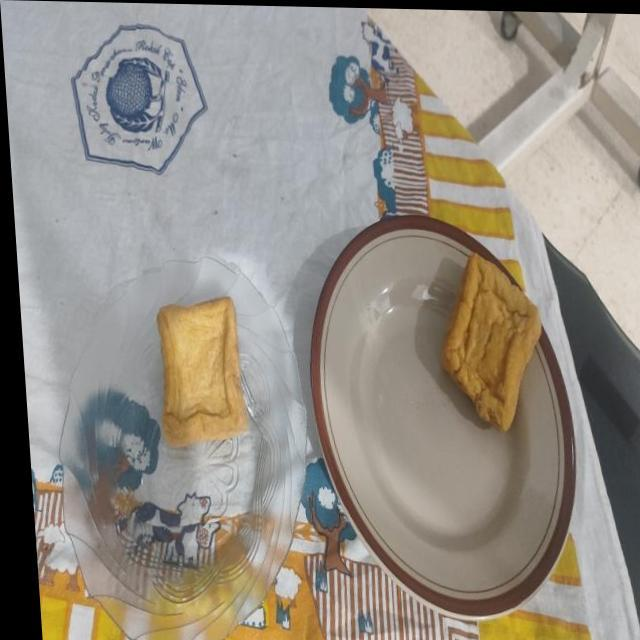tahu_goreng: (442, 252, 542, 430), (157, 297, 248, 447)
